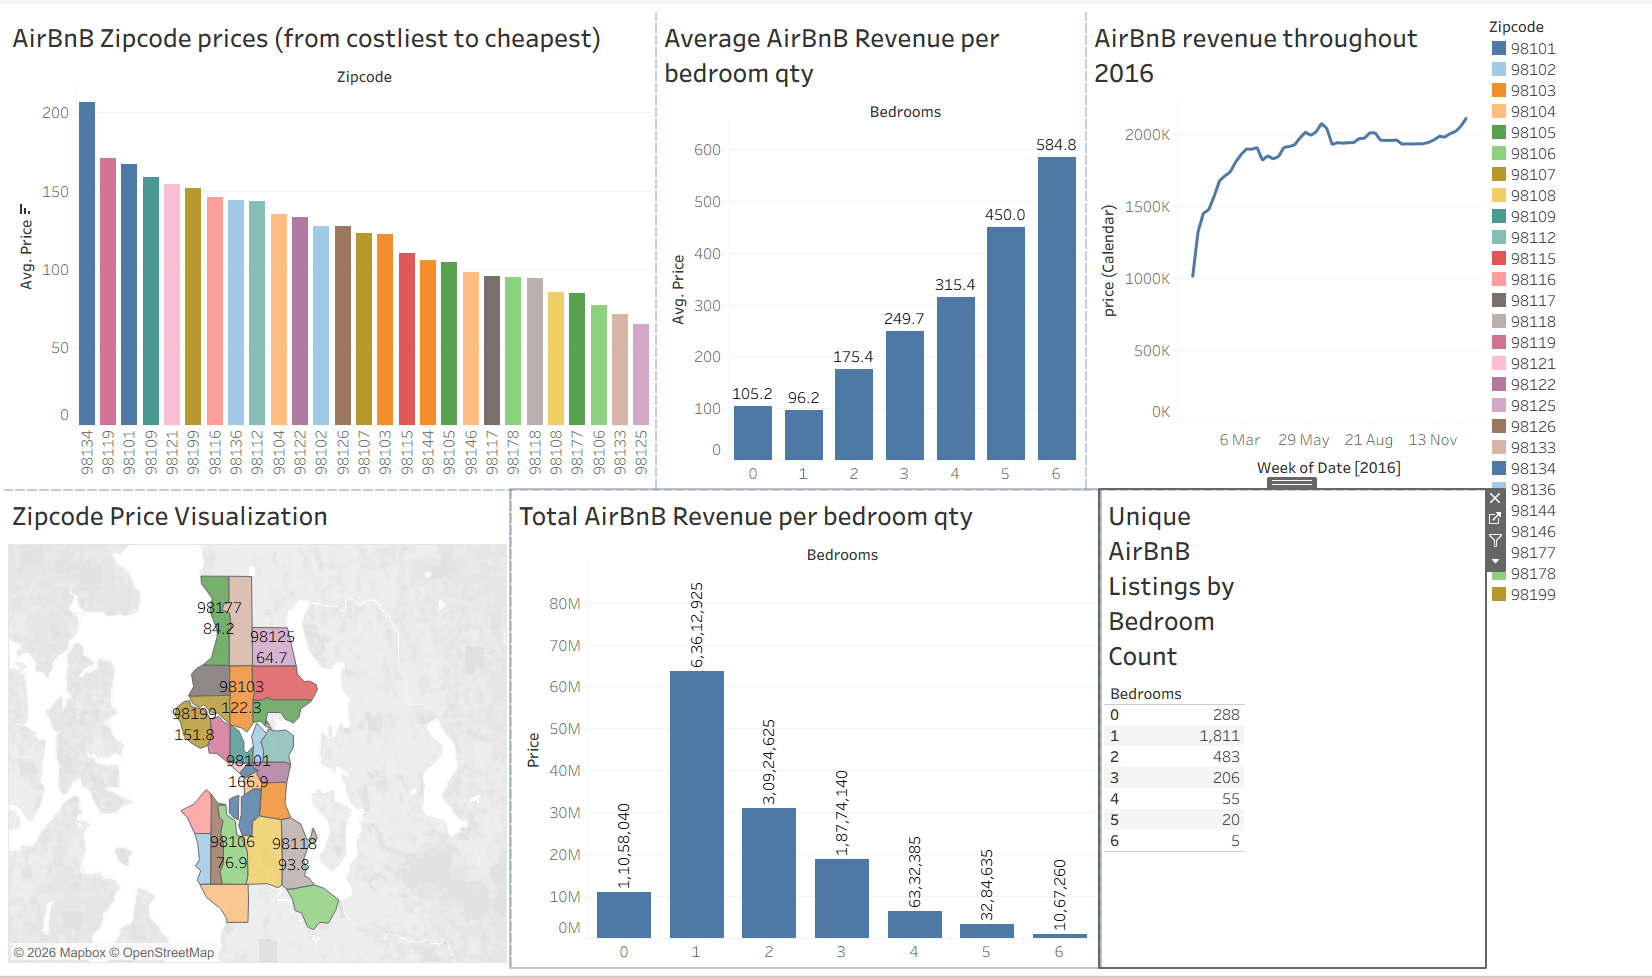

The page's visual inventory and layout, read from the dashboard file:
{"tool":"tableau","page":{"name":"Dashboard 1","canvas":[1000,1000],"units":"permille","ordinal":0},"visuals":[{"type":"worksheet","title":"Sheet 1","mark":"Automatic","rows":["price"],"cols":["zipcode"],"box":[4.8,8.2,393.5,491.8]},{"type":"worksheet","title":"Sheet 5","mark":"Automatic","rows":["price"],"cols":["bedrooms"],"box":[398.3,8.2,259.5,491.8]},{"type":"worksheet","title":"Sheet 3","mark":"Automatic","rows":["price (Calendar)"],"cols":["date"],"box":[657.8,8.2,240.8,491.8]},{"type":"legend","title":"Sheet 1","param":"[federated.1nqq6m10a50zs511e1ba30hc3tnv].[none:zipcode:ok]","box":[898.6,8.2,96.6,614.8]},{"type":"worksheet","title":"Sheet 2","mark":"Multipolygon","box":[4.8,500,306,491.8]},{"type":"worksheet","title":"Sheet 4","mark":"Automatic","rows":["price"],"cols":["bedrooms"],"box":[310.8,500,355.4,491.8]},{"type":"worksheet","title":"Sheet 6","mark":"Automatic","rows":["bedrooms"],"box":[666.2,500,232.4,491.8]}]}

Visuals, with their boxes on the dashboard's canvas, which has no fixed pixel size, in thousandths of its width and height (x1, y1, x2, y2). These are canvas units, not pixel positions in the 1652x977 screenshot, which may show the page scaled, cropped or inside an application window:
"Sheet 1" worksheet: (left=5, top=8, right=398, bottom=500)
"Sheet 5" worksheet: (left=398, top=8, right=658, bottom=500)
"Sheet 3" worksheet: (left=658, top=8, right=899, bottom=500)
"Sheet 1" legend: (left=899, top=8, right=995, bottom=623)
"Sheet 2" worksheet (Multipolygon marks): (left=5, top=500, right=311, bottom=992)
"Sheet 4" worksheet: (left=311, top=500, right=666, bottom=992)
"Sheet 6" worksheet: (left=666, top=500, right=899, bottom=992)
